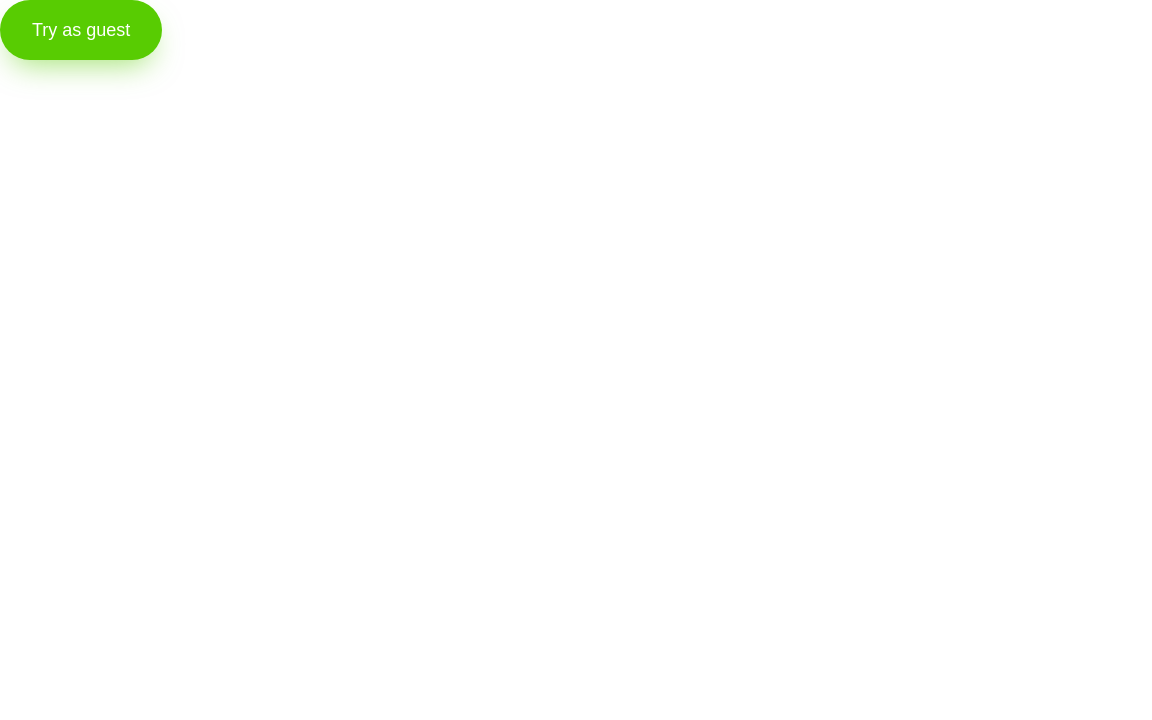
Test: JoinInterview › opens the device popup inline for a Guest, then Skip goes to /call?guest=1
The image size is (1152, 720).
Later steps or results of the test are not shown.
What coordinates should you click on to do the following:
click the button "Try as guest"
I would click on:
 (81, 30)
Its box is [0,0,162,60].
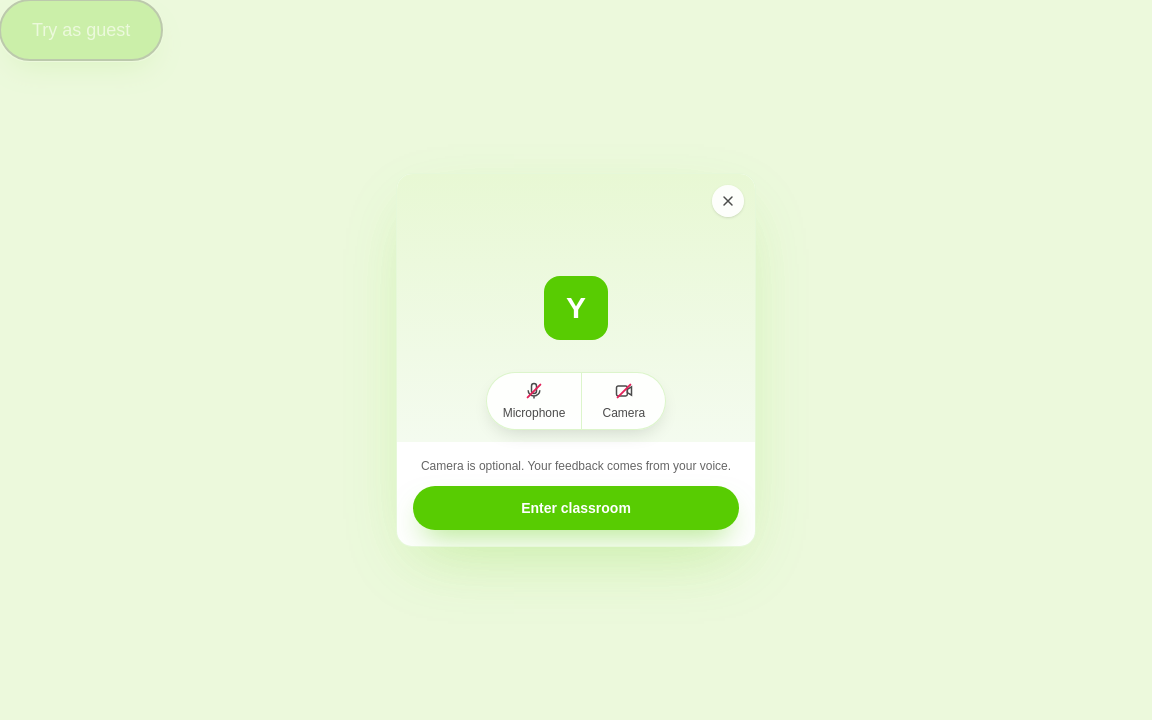
Expected: the dialog named "ready to join" is shown
